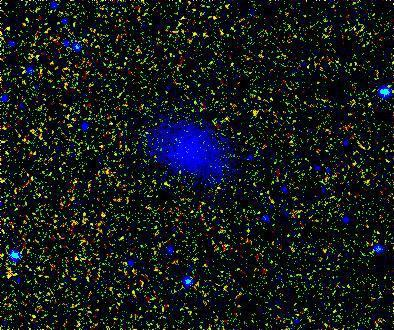star: (240, 97, 270, 127)
